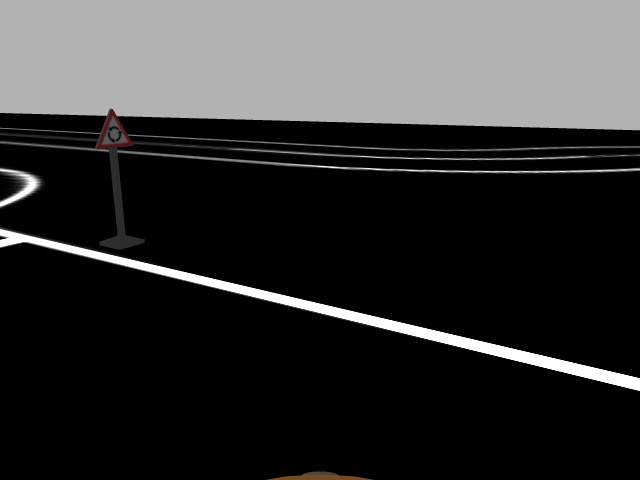roundabout: (93, 107, 135, 149)
